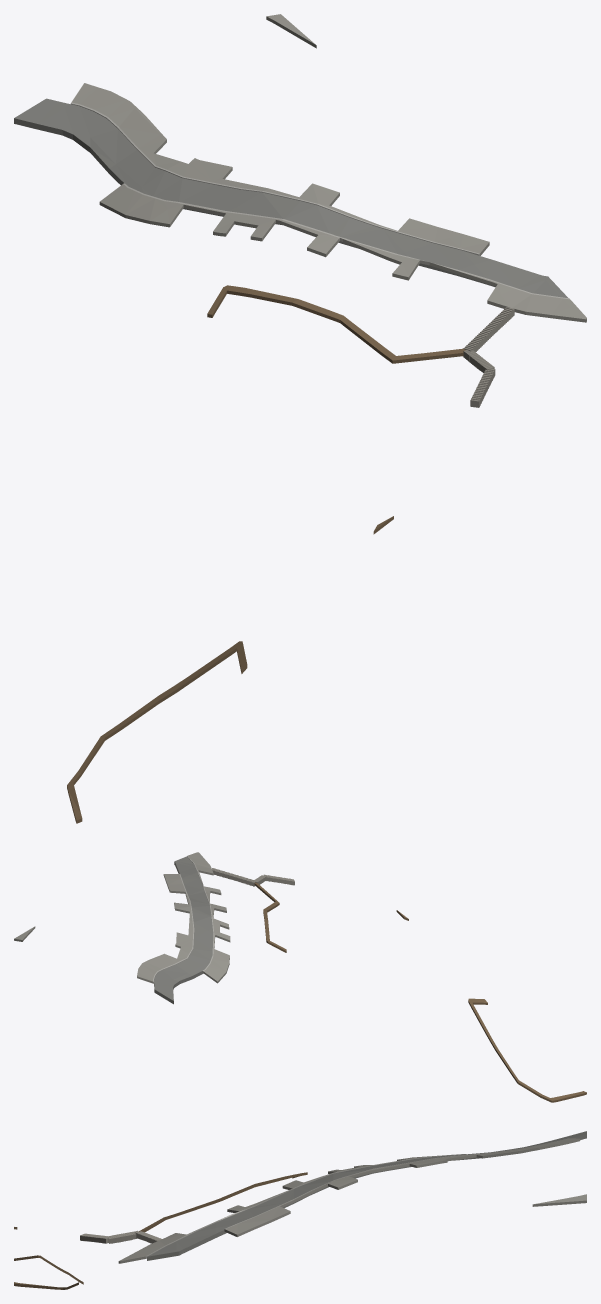
The picture shows the model from 3 angles, top to bottom: view 1: azimuth 30°, elevation 25°; view 2: azimuth 150°, elevation 25°; view 3: azimuth 270°, elevation 25°; orthographic projection. The views are drawn at different scales.
Bounding box in the file's own units: 130 × 84.46 × 146.
